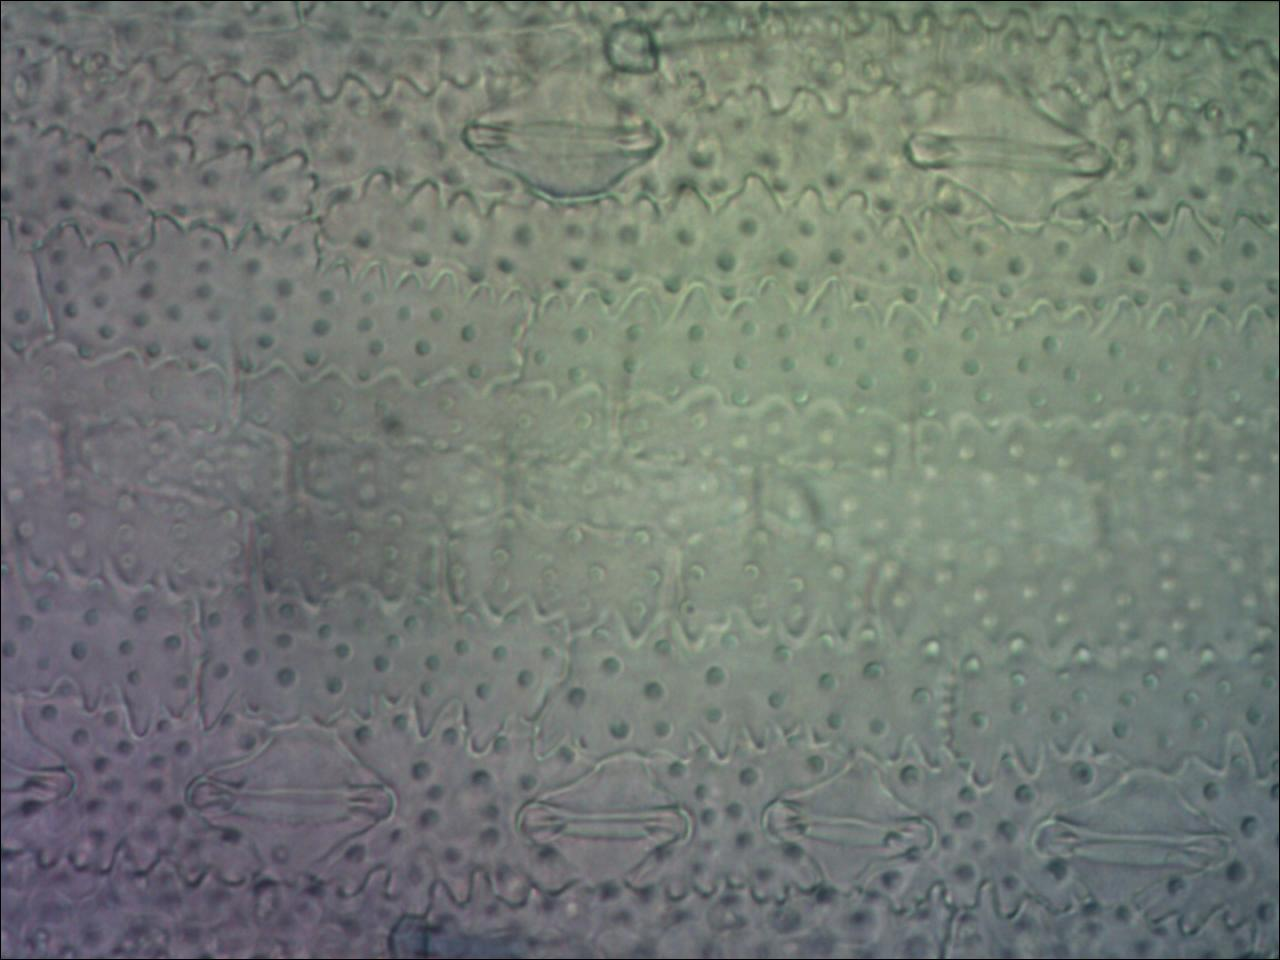stoma: (188, 719, 397, 885), (903, 83, 1117, 228), (1030, 762, 1236, 899), (753, 751, 946, 884), (457, 80, 666, 200), (510, 757, 689, 882), (1, 697, 84, 846)
